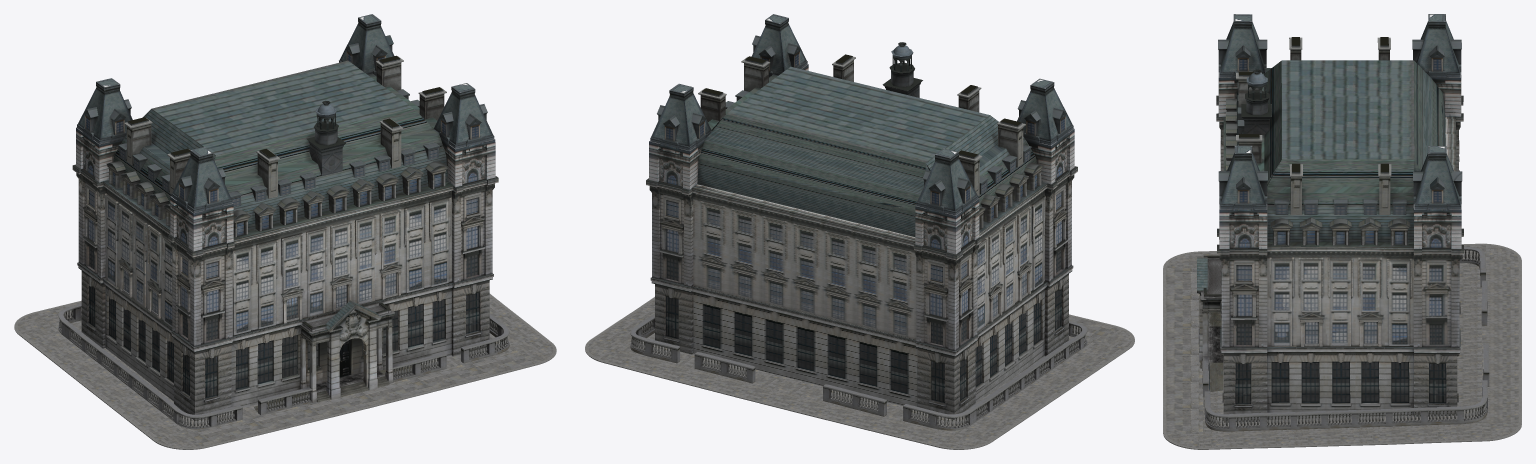
Rendered from free_london_kinnaird_house.glb.
3 views of the same model, side by side, from view 1: azimuth 30°, elevation 25°; view 2: azimuth 150°, elevation 25°; view 3: azimuth 270°, elevation 25° (orthographic). The views are drawn at different scales.
Parts seen in each view (by area): view 1: Building, Plane.001, Plane.002; view 2: Building, Plane.001, Plane.002; view 3: Building, Plane.001, Plane.002.
Boxes of the visible parts, x1,y1,x2,y2 form: Building: (58,14,509,429); Plane.001: (17,296,553,447); Plane.002: (14,293,556,449); Building: (630,14,1087,430); Plane.001: (588,299,1131,447); Plane.002: (585,297,1134,449); Building: (1197,14,1489,431); Plane.001: (1166,245,1518,447); Plane.002: (1163,243,1521,449).
Bounding box in the file's own units: 51.48 × 33.84 × 39.04.
3 materials, 3 textured.
